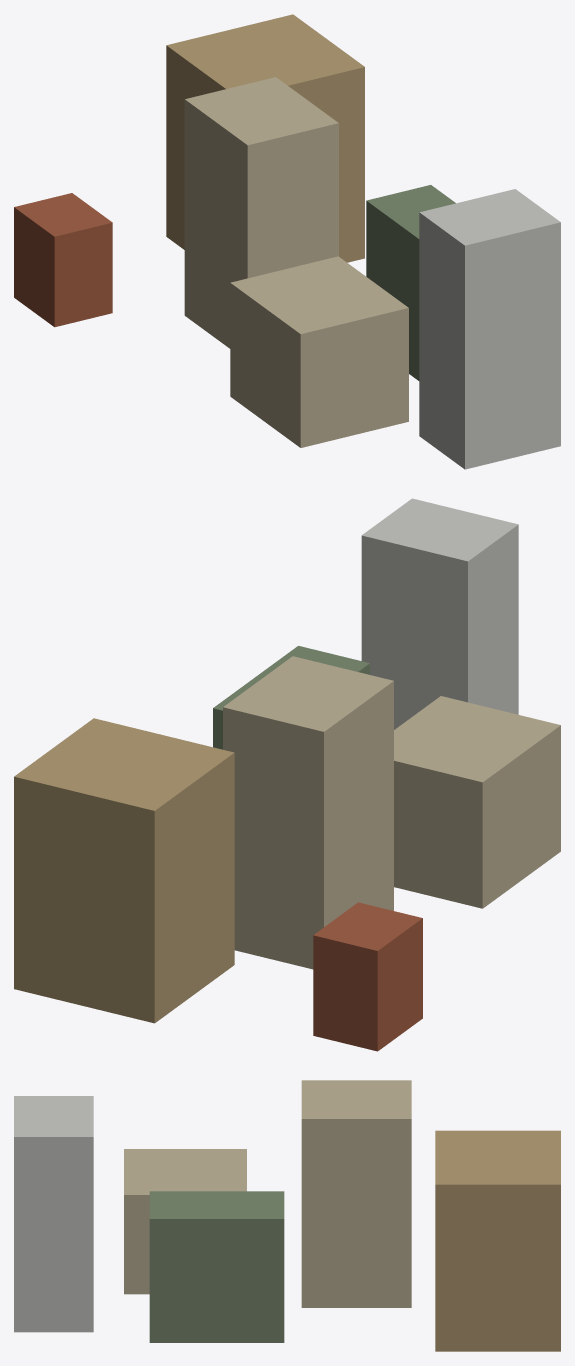
File: synth-12-08.lod2.glb
3 views of the same model, one above another, from view 1: azimuth 30°, elevation 25°; view 2: azimuth 150°, elevation 25°; view 3: azimuth 270°, elevation 25° (orthographic). The views are drawn at different scales.
Parts seen in each view (by area): view 1: synth-12-08; view 2: synth-12-08; view 3: synth-12-08.
Boxes of the visible parts, x1,y1,x2,y2 form: synth-12-08: (14,14,560,469); synth-12-08: (14,498,560,1051); synth-12-08: (14,1080,560,1351).
Size of the model in its own units: 42.76 by 30.15 by 76.45.
